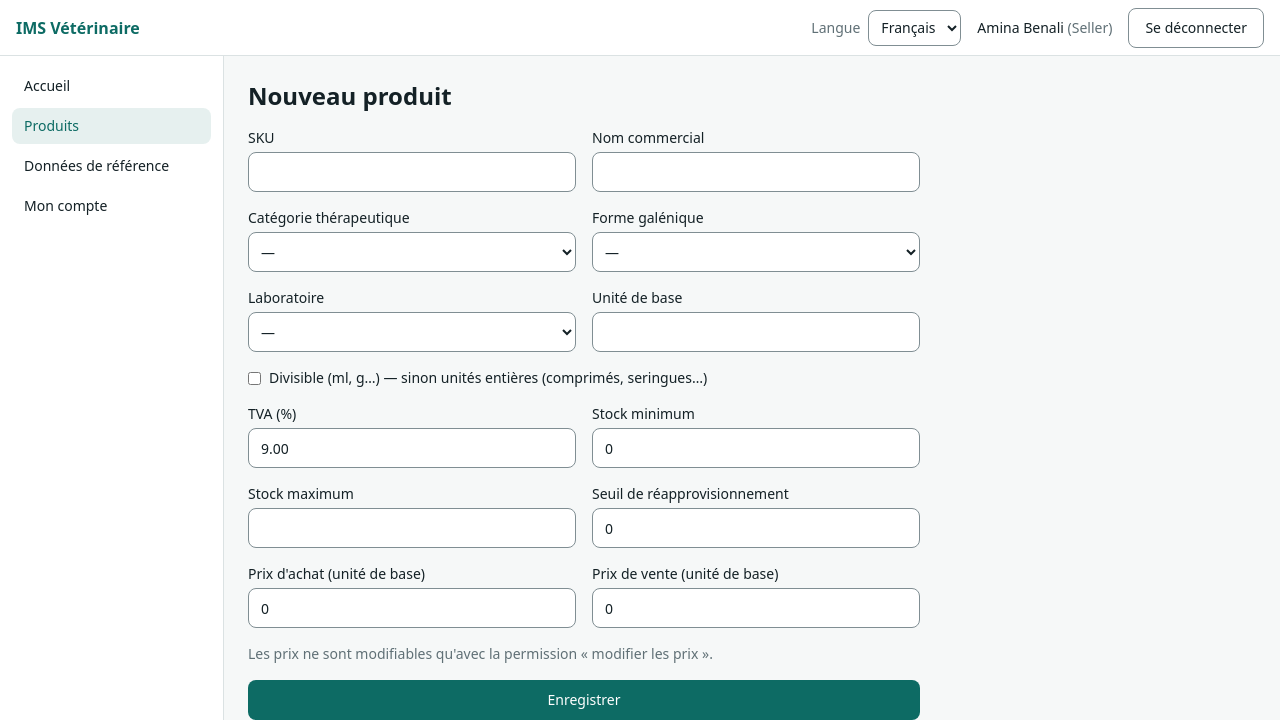
product pages › creates a product with the default VAT and shows server field errors
Type "AMX-10" into the field labelled "SKU".
click(412, 172); type("AMX-10")  # box [248, 152, 576, 192]
Type "Amoxival 500" into the field labelled "Nom commercial".
click(756, 172); type("Amoxival 500")  # box [592, 152, 920, 192]
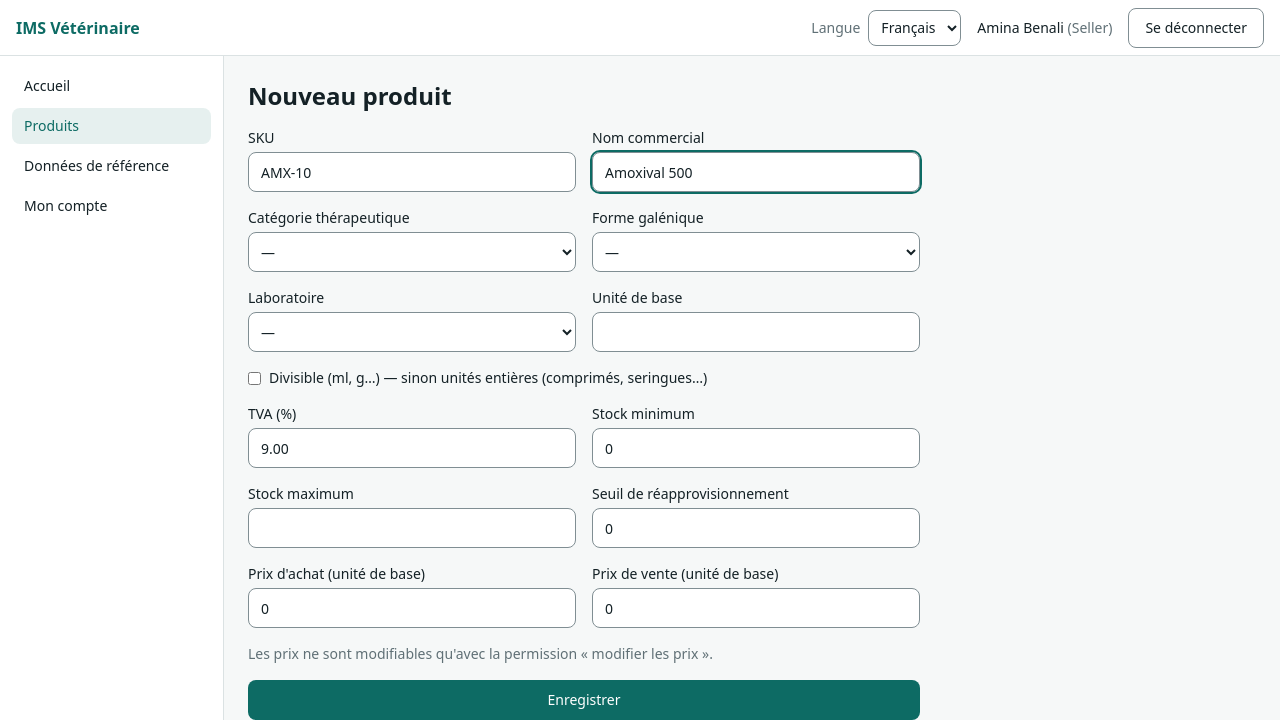
Select "Antibiotique" in the dropdown labelled "Catégorie thérapeutique" at (412, 252), box [248, 232, 576, 272]
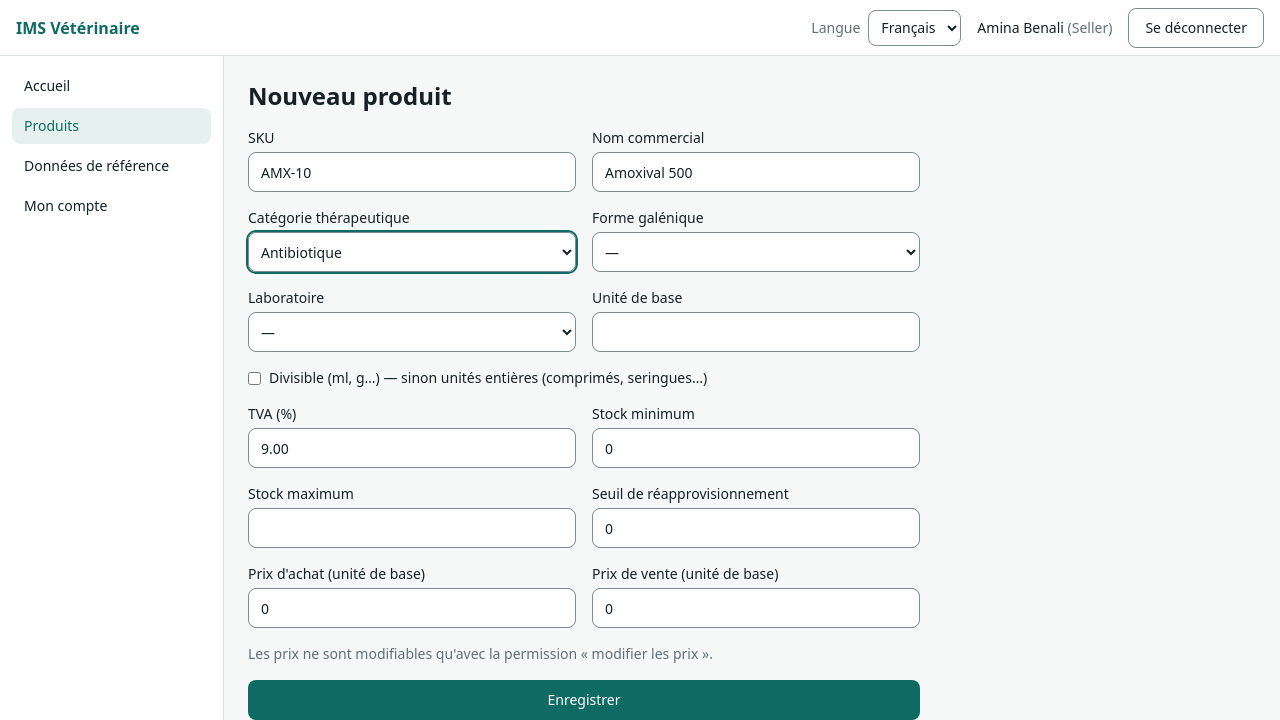
Type "tablet" into the field labelled "Unité de base".
click(756, 332); type("tablet")  # box [592, 312, 920, 352]
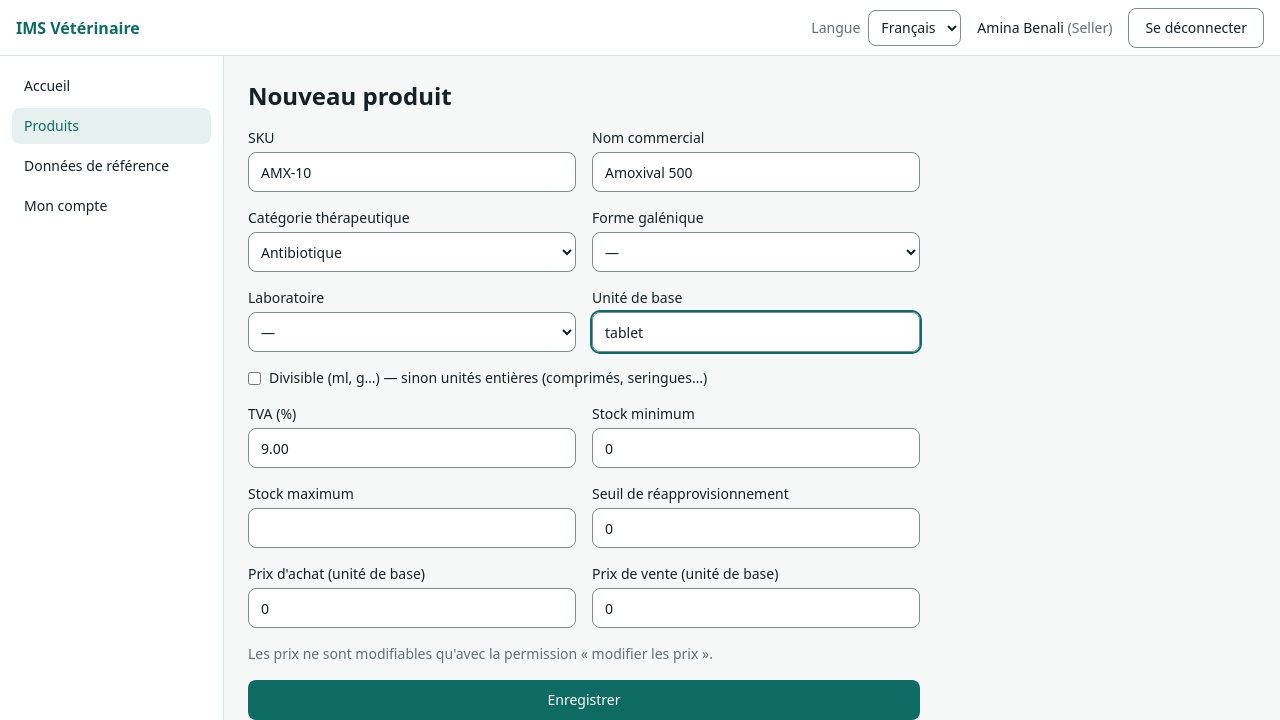
Replace the text in the field labelled "Stock minimum" with "2.5" at (756, 448), box [592, 428, 920, 468]
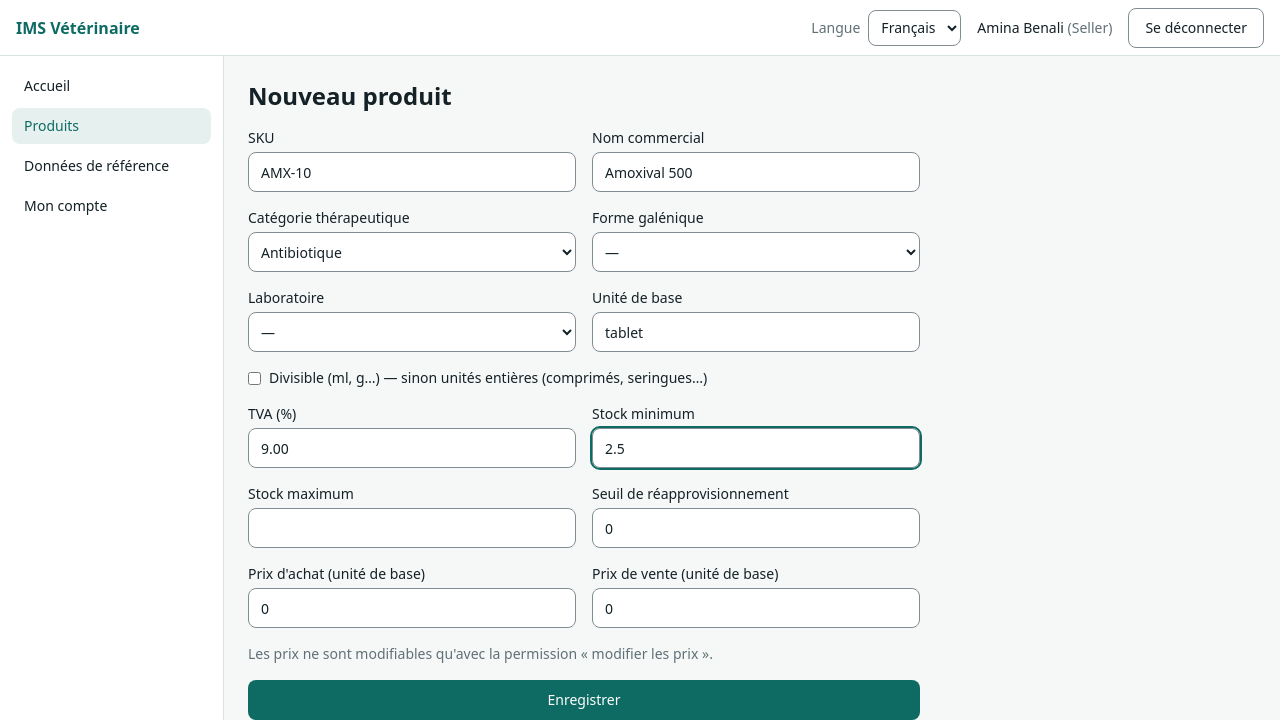
expect the field labelled "TVA (%)" holds "9.00": met, box [248, 428, 576, 468]
Click the button "Enregistrer".
click(584, 700)  # box [248, 680, 920, 719]
(page scrolled)
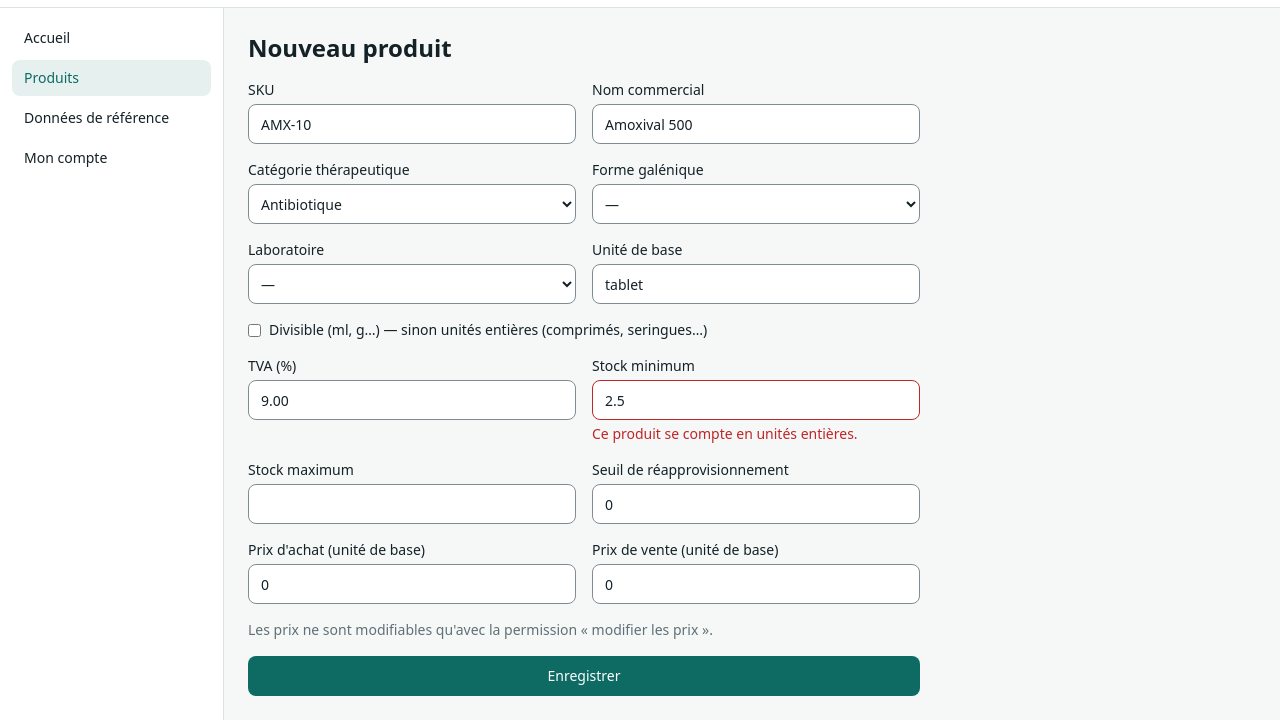
expect the text "Ce produit se compte en unités entières." is shown: met, box [592, 424, 858, 443]
Click the button "Enregistrer".
click(584, 676)  # box [248, 656, 920, 696]
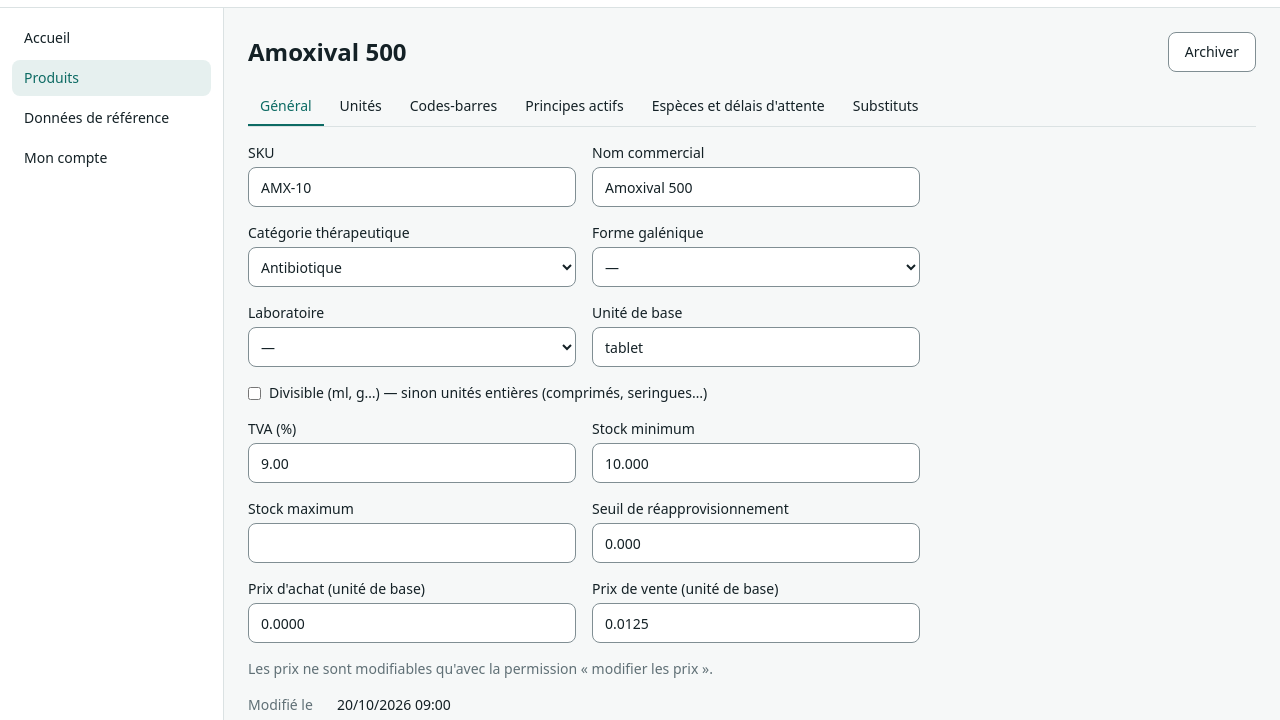
expect the heading "Amoxival 500" is shown: met, box [248, 36, 407, 68]
